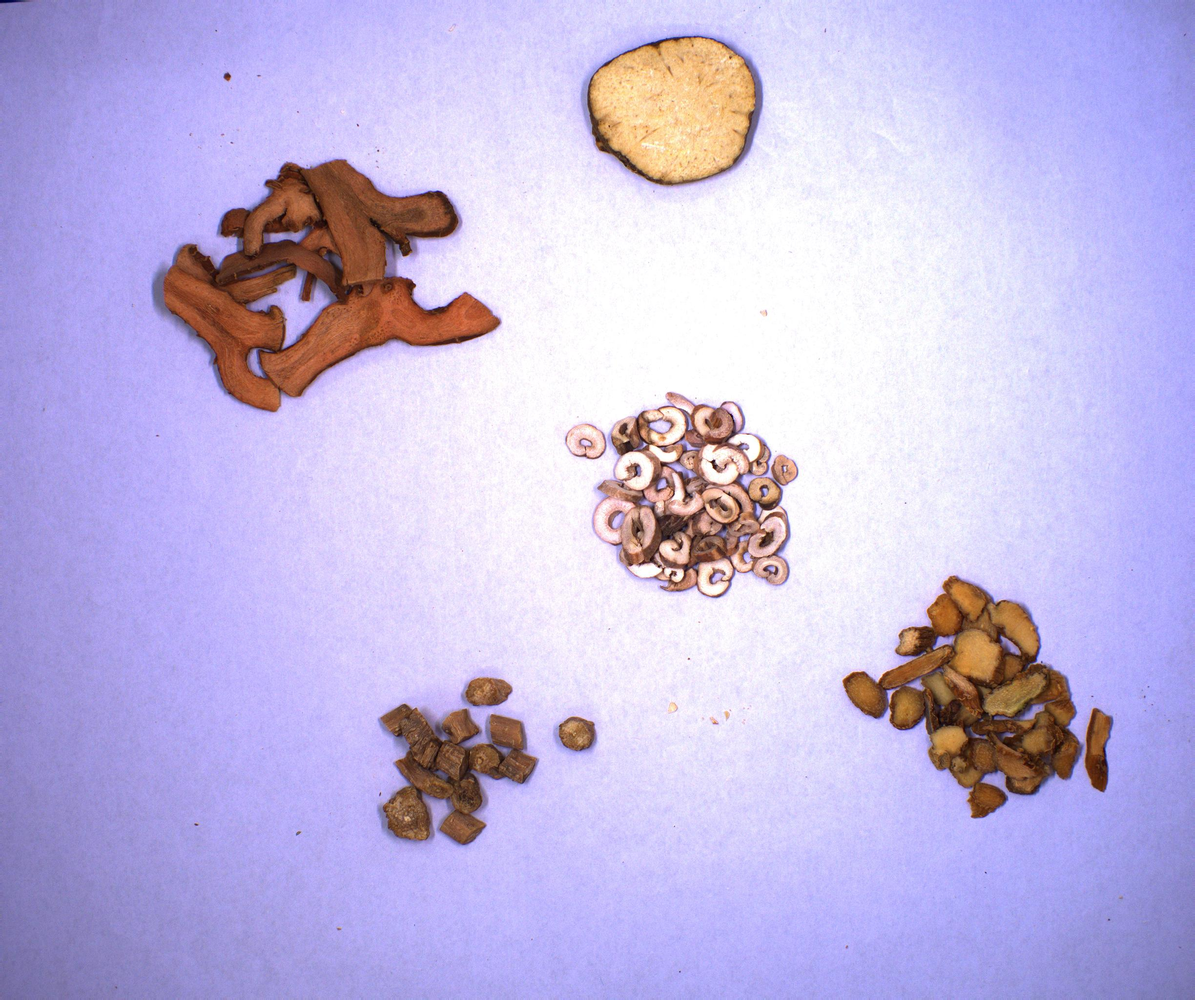gaoliangjiang: (154, 156, 507, 417)
mudanpi: (562, 387, 802, 601)
niuxi: (372, 678, 605, 852)
yuzhu: (838, 579, 1116, 827)
zexie: (578, 24, 767, 189)
